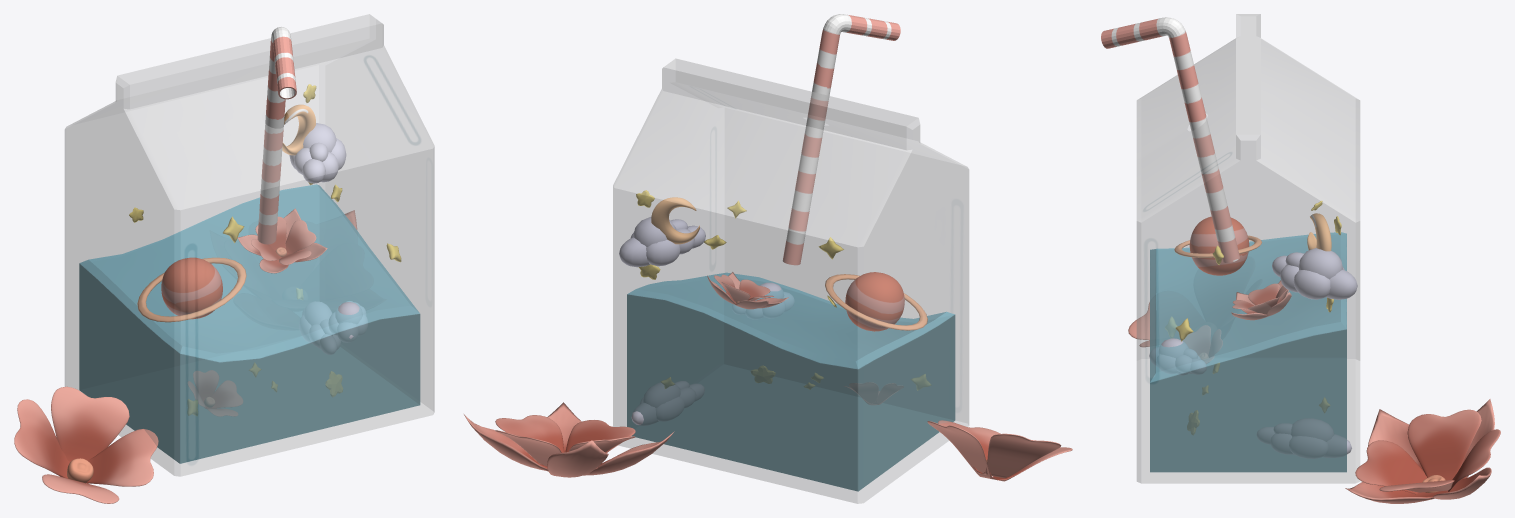
3 renders of one model, left to right at view 1: azimuth 30°, elevation 25°; view 2: azimuth 150°, elevation 25°; view 3: azimuth 270°, elevation 25°, orthographic. The views are drawn at different scales.
Visible parts, largest first — view 1: Cajita, object 2, Flores_Flores_0, Planetas_estrellas_Extras_0, Nube_Nubes_0; view 2: Cajita, object 2, Flores_Flores_0, Planetas_estrellas_Extras_0, Nube_Nubes_0; view 3: Cajita, object 2, Flores_Flores_0, Planetas_estrellas_Extras_0, Nube_Nubes_0.
Part boxes in pixels (x1,y1,x2,y2): Cajita: (64, 14, 434, 476); object 2: (79, 184, 420, 463); Flores_Flores_0: (14, 208, 357, 503); Planetas_estrellas_Extras_0: (129, 26, 401, 415); Nube_Nubes_0: (289, 123, 367, 354); Cajita: (613, 58, 969, 503); object 2: (627, 272, 955, 491); Flores_Flores_0: (464, 272, 1072, 481); Planetas_estrellas_Extras_0: (636, 14, 931, 390); Nube_Nubes_0: (619, 216, 794, 425); Cajita: (1136, 14, 1360, 483); object 2: (1150, 232, 1346, 472); Flores_Flores_0: (1128, 280, 1500, 503); Planetas_estrellas_Extras_0: (1101, 17, 1341, 434); Nube_Nubes_0: (1149, 248, 1357, 458).
Bounding box in the file's own units: 119 × 101 × 87.67.
Materials: 5 (5 with a texture image).
